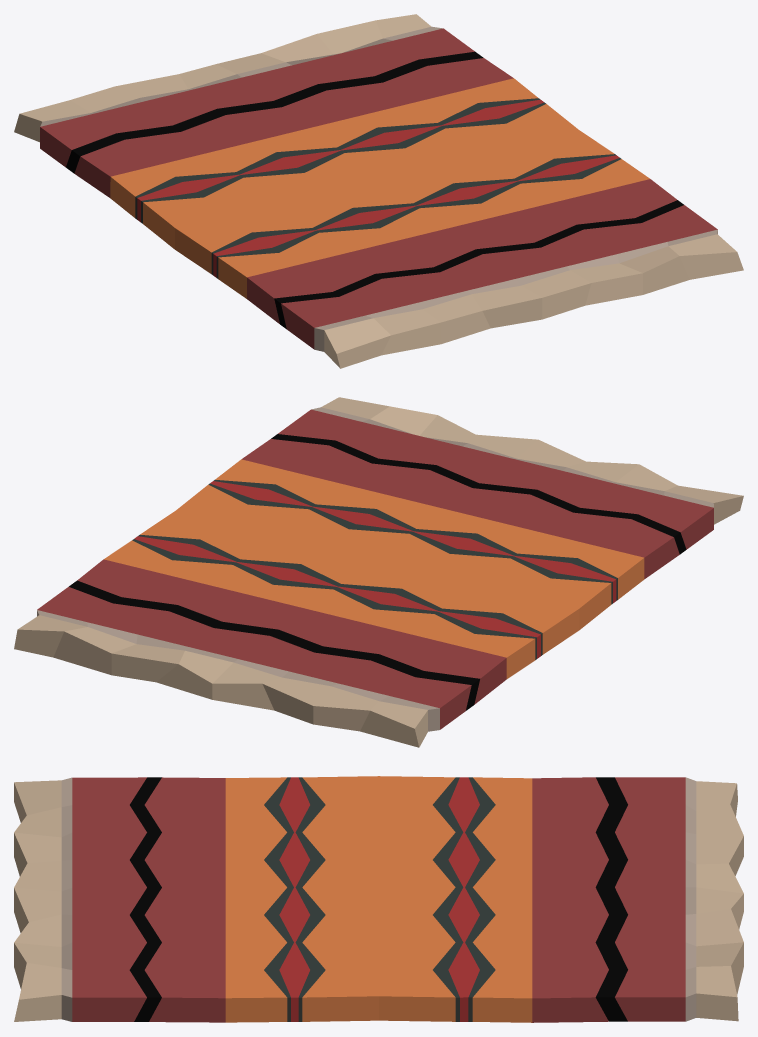
Rendered from carpet_rhomb.fbx.
The picture shows the model from 3 angles, top to bottom: view 1: azimuth 30°, elevation 25°; view 2: azimuth 150°, elevation 25°; view 3: azimuth 270°, elevation 25°; orthographic projection. The views are drawn at different scales.
Parts seen in each view (by area): view 1: carpet_rhomb; view 2: carpet_rhomb; view 3: carpet_rhomb.
Part boxes in pixels (x1,y1,x2,y2): carpet_rhomb: [14, 14, 743, 368]; carpet_rhomb: [14, 397, 743, 747]; carpet_rhomb: [14, 776, 743, 1022].
Bounding box in the file's own units: 1.45 × 0.0911 × 2.
